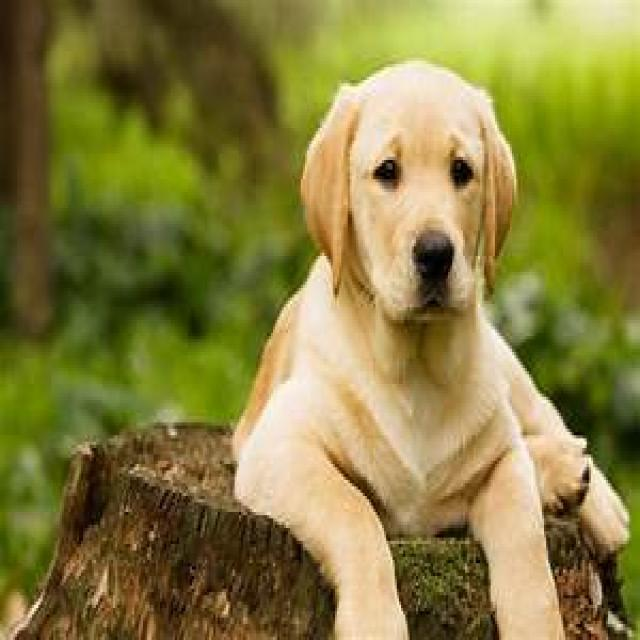dog: (233, 61, 631, 640)
